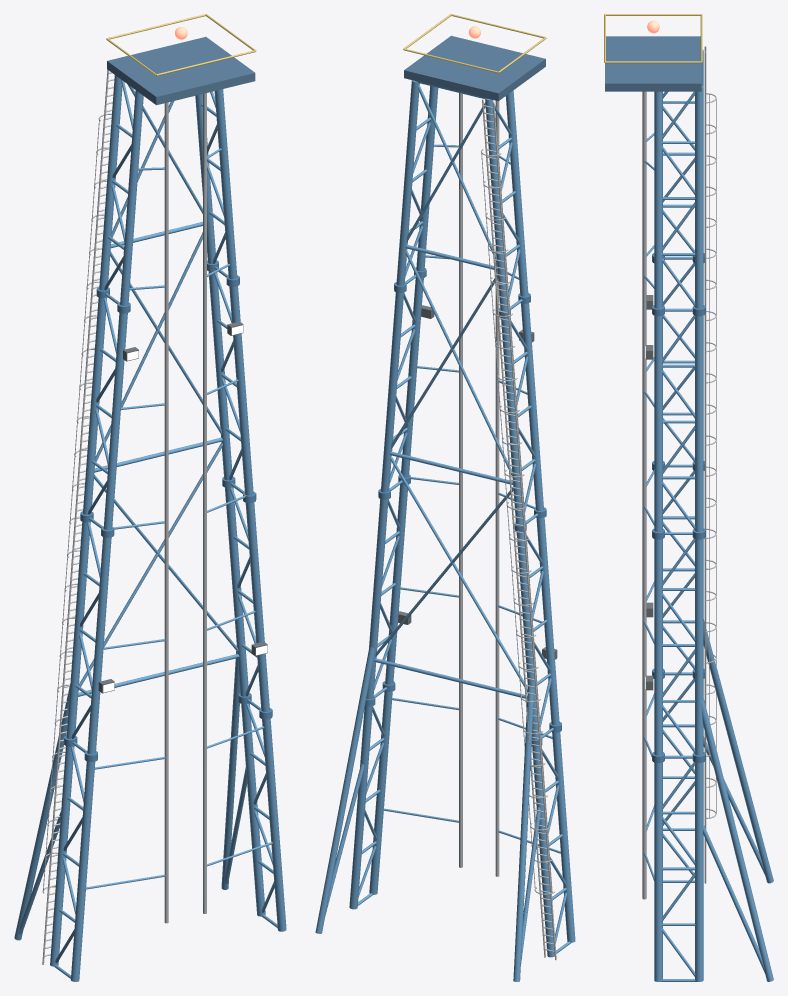
Rendered from mast.glb.
3 views of the same model, side by side, from view 1: azimuth 30°, elevation 25°; view 2: azimuth 150°, elevation 25°; view 3: azimuth 270°, elevation 25° (orthographic). The views are drawn at different scales.
Visible parts, largest first — view 1: object 1, object 2, object 37, object 38, object 100, object 84, object 92, inst (×2), object 105, object 35, object 71, object 118 (+5 smaller); view 2: object 1, object 38, object 37, object 2, object 100, inst (×3), object 92, object 84, object 35, object 71, object 105, object 106 (+11 smaller); view 3: object 37, object 38, object 100, object 92, object 106, object 71, object 35, inst (×2), object 72, object 116, object 117, object 36.
Part boxes in pixels (x1,y1,x2,y2): object 1: (71,90,143,981); object 2: (50,75,122,966); object 37: (214,89,286,931); object 38: (195,94,265,916); object 100: (107,37,255,105); object 84: (164,102,168,923); object 92: (203,93,206,913); inst (×2): (44,72,272,956); object 105: (42,69,108,964); object 35: (14,684,70,940); object 71: (221,651,240,889); object 118: (43,120,99,891); object 1: (505,90,575,942); object 38: (349,80,419,909); object 37: (369,86,438,894); object 2: (485,98,554,957); object 100: (404,35,545,100); inst (×3): (365,105,561,952); object 92: (459,93,462,867); object 84: (495,100,499,876); object 35: (513,686,533,981); object 71: (315,647,374,933); object 105: (492,102,556,960); object 106: (482,99,545,957); object 37: (654,91,662,981); object 38: (695,86,703,981); object 100: (605,36,701,91); object 92: (642,91,646,899); object 106: (704,51,706,883); object 71: (701,697,773,981); object 35: (703,619,773,883); inst (×2): (652,93,716,818); object 72: (702,824,765,974); object 116: (709,103,709,817); object 117: (716,99,716,813); object 36: (703,736,765,875).
Size of the model in its own units: 9.75 by 39.51 by 6.68.
